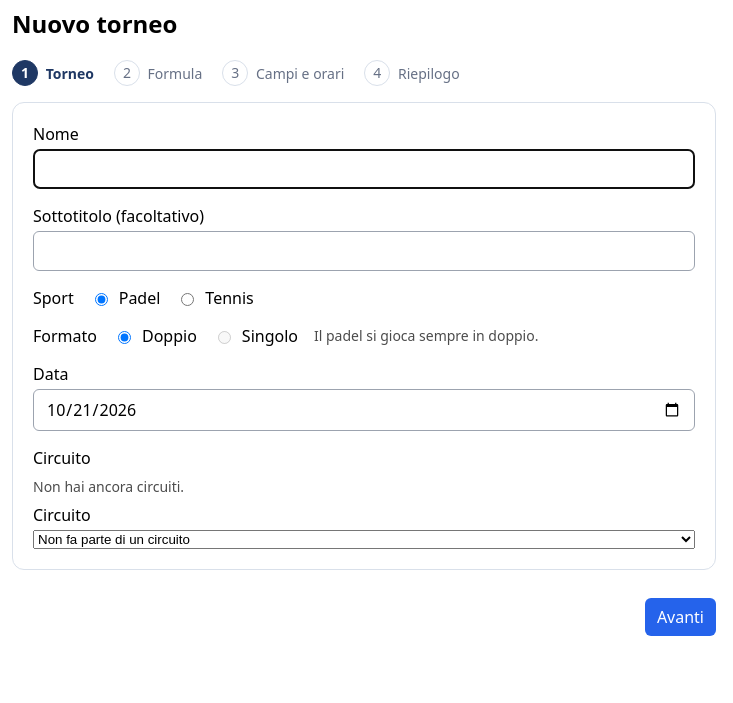
Test case: NewTournamentPage › asks for a name before going on
The image size is (733, 703).
Click the button "Avanti".
click(680, 617)  # box [645,598,716,636]
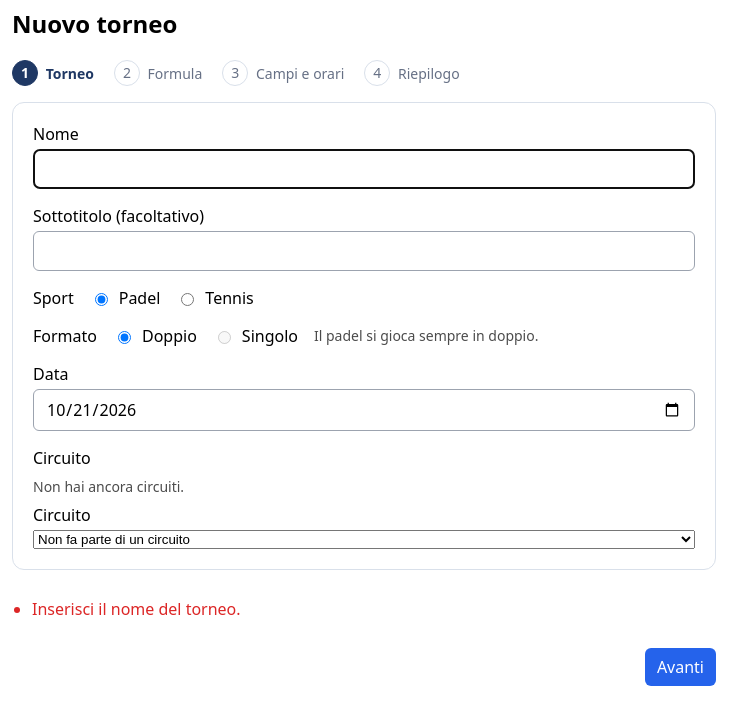
Expected: the field labelled "Nome" is shown, [33,149,695,189]
Expected: the list item "Inserisci il nome del torneo." is shown, [32,598,241,620]
